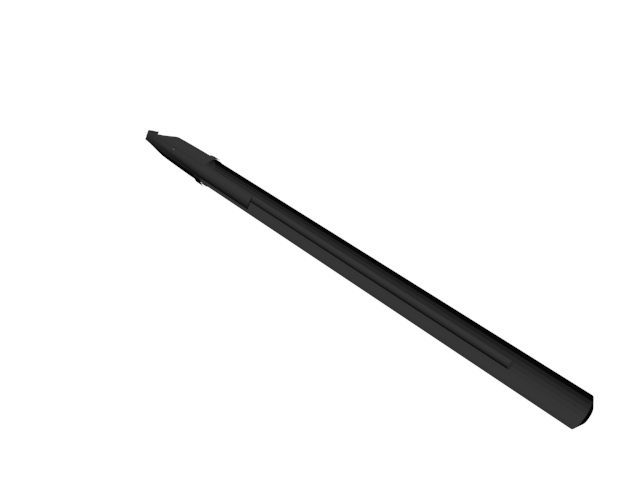pen: (145, 129, 600, 432)
